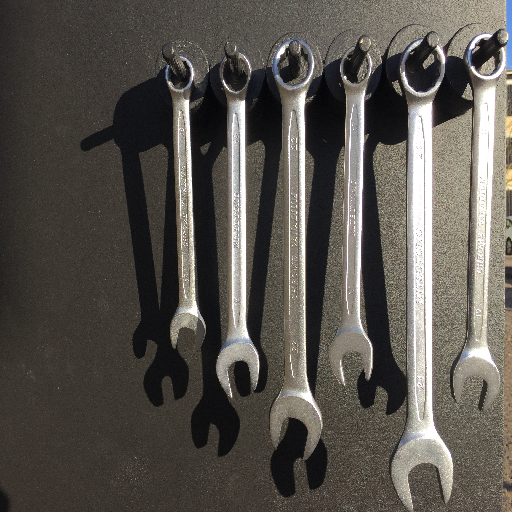bottom: (388, 431, 455, 512), (265, 391, 325, 463), (449, 343, 501, 414), (326, 328, 376, 392), (214, 338, 263, 402), (167, 306, 210, 355)
top: (396, 35, 447, 101), (270, 36, 318, 99), (460, 32, 508, 91), (337, 43, 375, 93), (216, 50, 255, 97), (162, 52, 198, 97)
